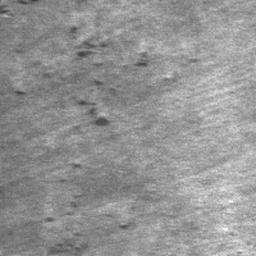Rolled in scale: (14, 23, 147, 130), (195, 180, 256, 256), (45, 163, 88, 256), (105, 199, 164, 231), (172, 0, 226, 33), (0, 0, 40, 17), (162, 78, 181, 92), (15, 44, 24, 54), (189, 59, 199, 64)
